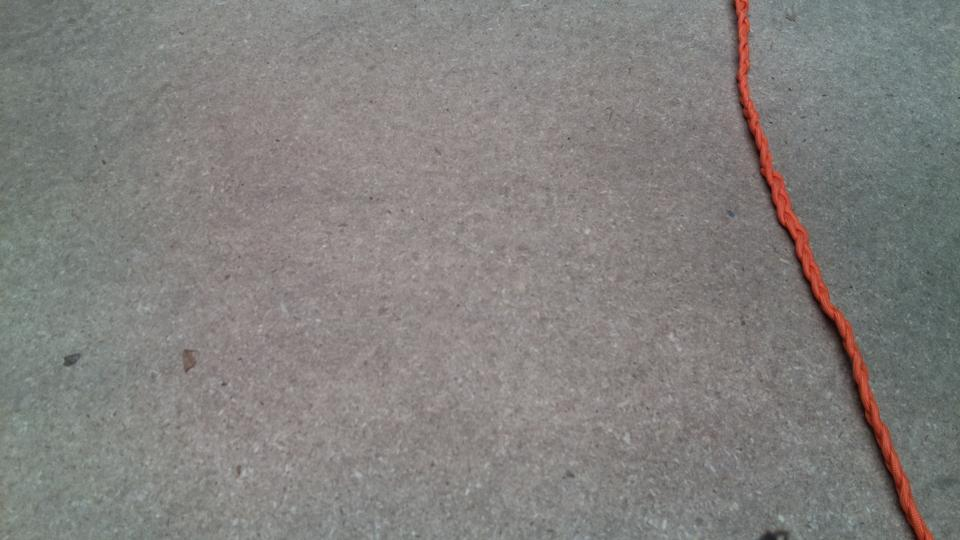rope: (730, 1, 935, 539)
